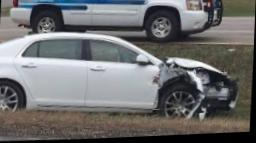Bonnet: (159, 58, 234, 88)
Bumper: (204, 82, 241, 116)
Fender: (152, 70, 227, 112)
